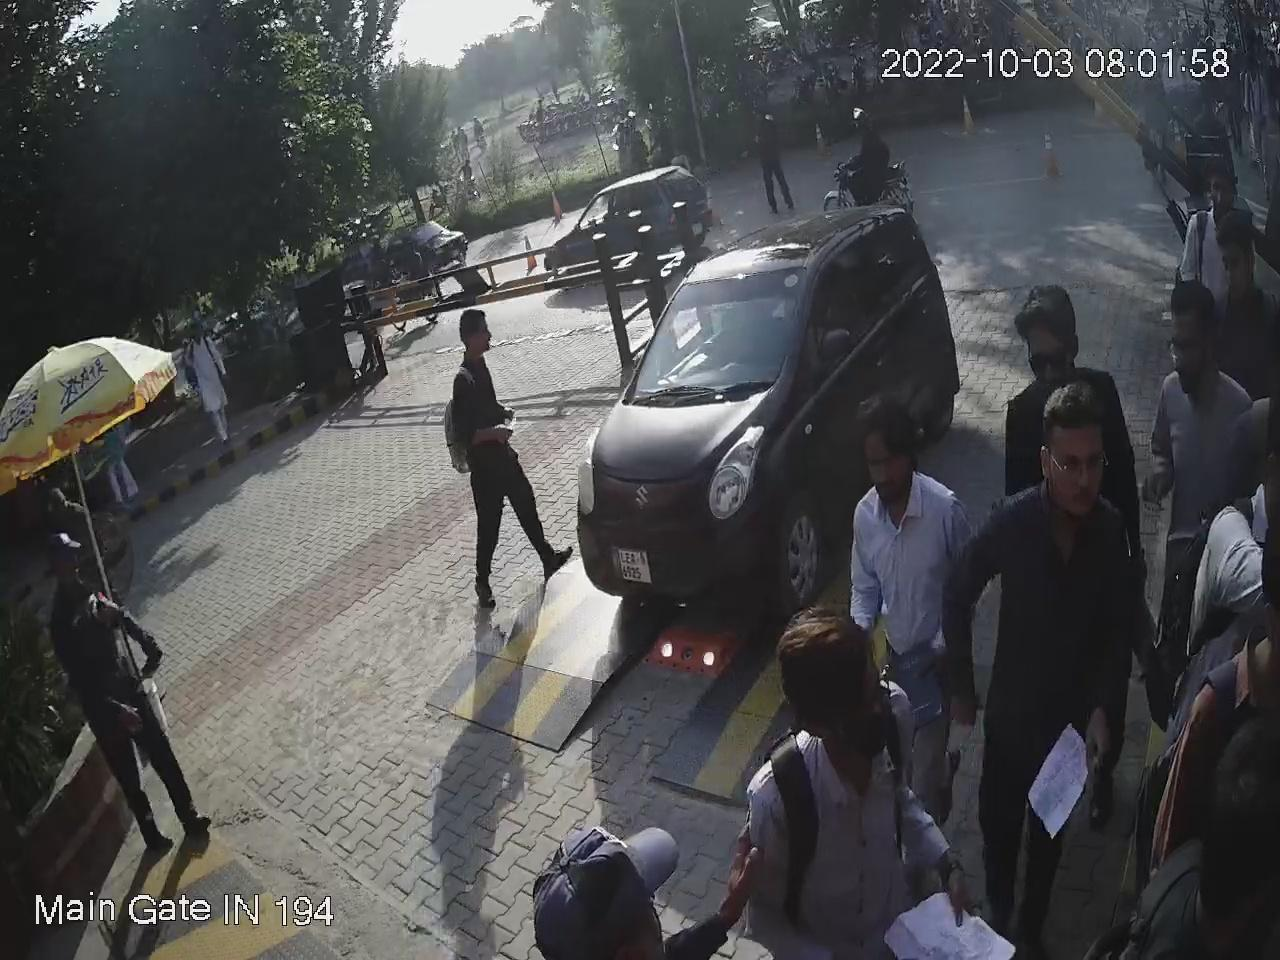windshield: (618, 247, 815, 405)
